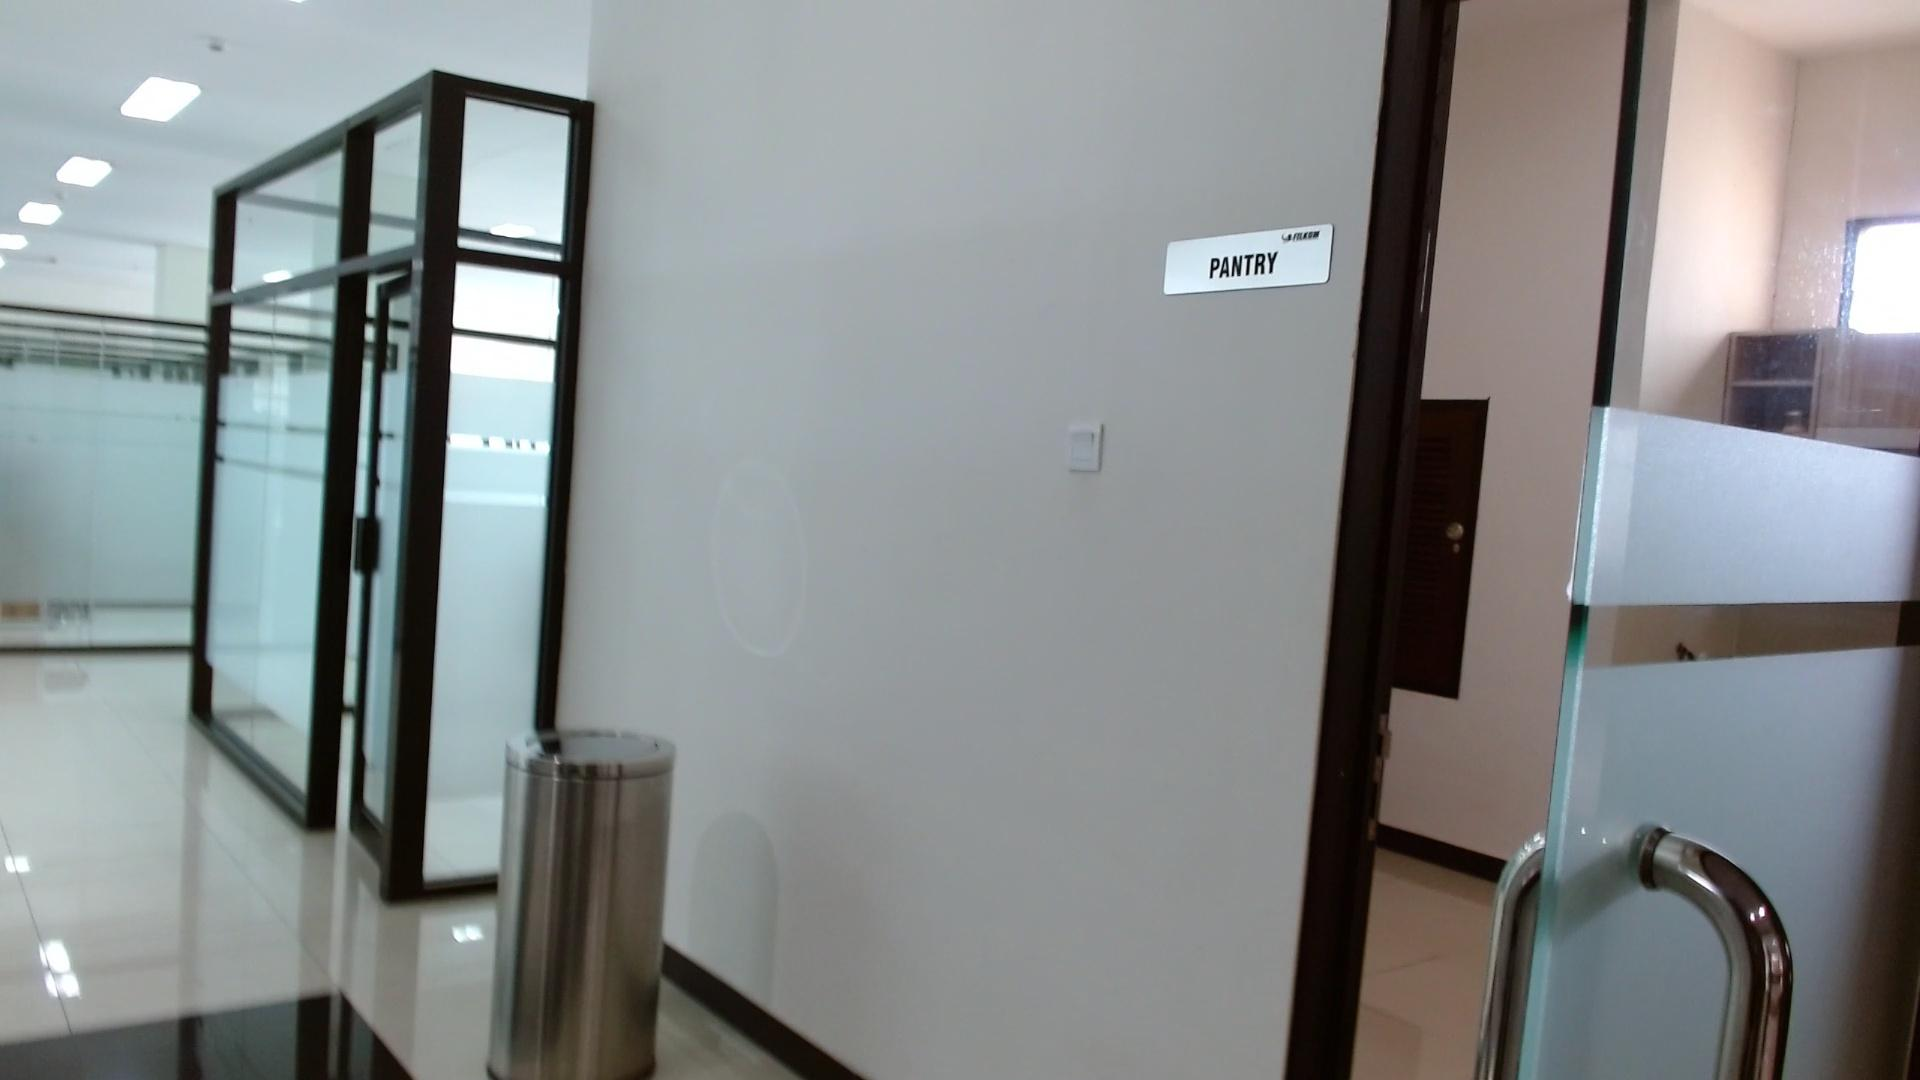plate: (1163, 223, 1335, 295)
